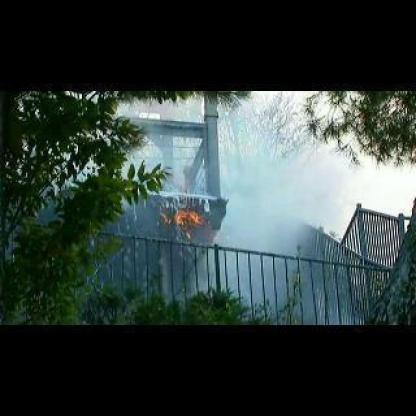fire: (168, 204, 218, 226)
